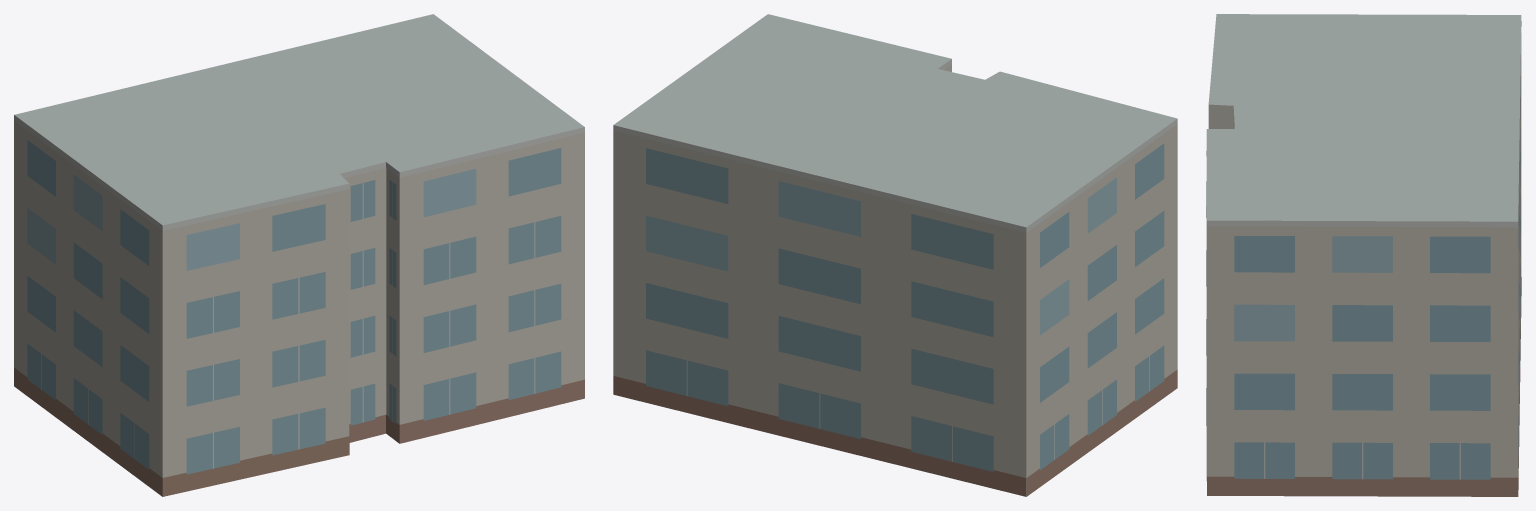
File: survey-upis-32823813.glb
The picture shows the model from 3 angles, left to right: view 1: azimuth 30°, elevation 25°; view 2: azimuth 150°, elevation 25°; view 3: azimuth 270°, elevation 25°; orthographic projection. The views are drawn at different scales.
Visible parts, largest first — view 1: survey-upis-32823813.tmp; view 2: survey-upis-32823813.tmp; view 3: survey-upis-32823813.tmp.
Boxes of the visible parts, x1,y1,x2,y2 form: survey-upis-32823813.tmp: [14, 14, 584, 496]; survey-upis-32823813.tmp: [613, 14, 1177, 496]; survey-upis-32823813.tmp: [1206, 14, 1521, 496].
Bounding box in the file's own units: 19.34 × 11.95 × 12.4.
